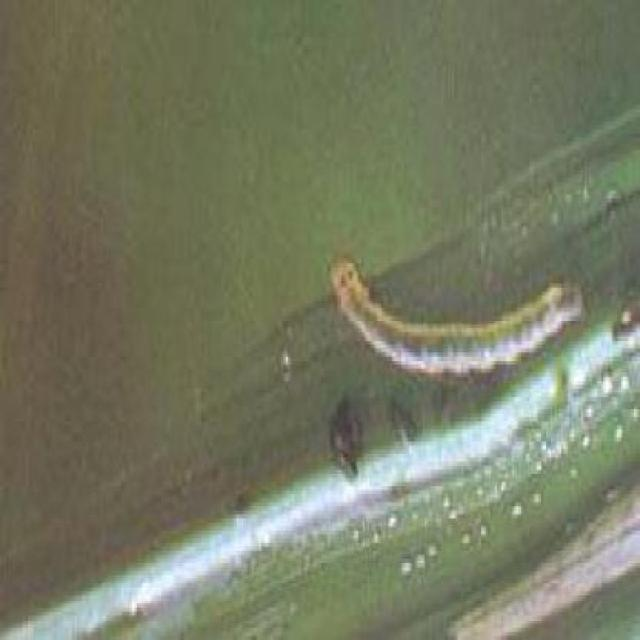leaf-folder: (326, 238, 586, 389)
